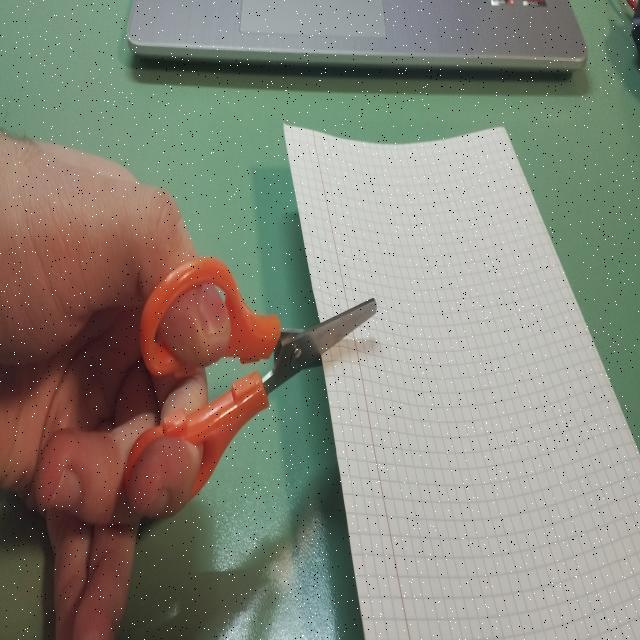scissors: (118, 244, 380, 532)
